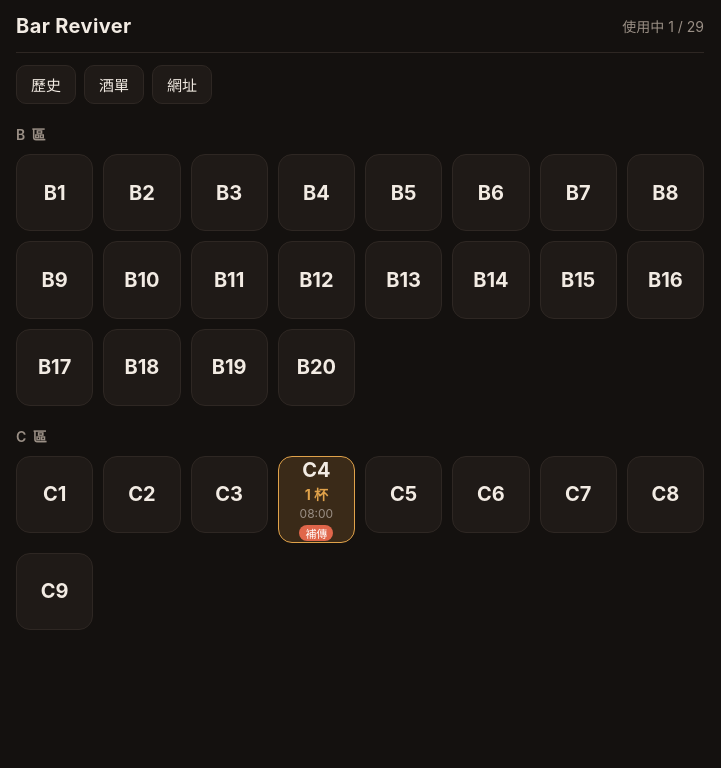
T7 驗收：離線 › 離線補傳重建的桌次有標示
What coordinates should you click on to do the following:
click the button "C4 1 杯 08:00 補傳"
I would click on:
 (316, 499)
Its box is [278, 456, 355, 543].
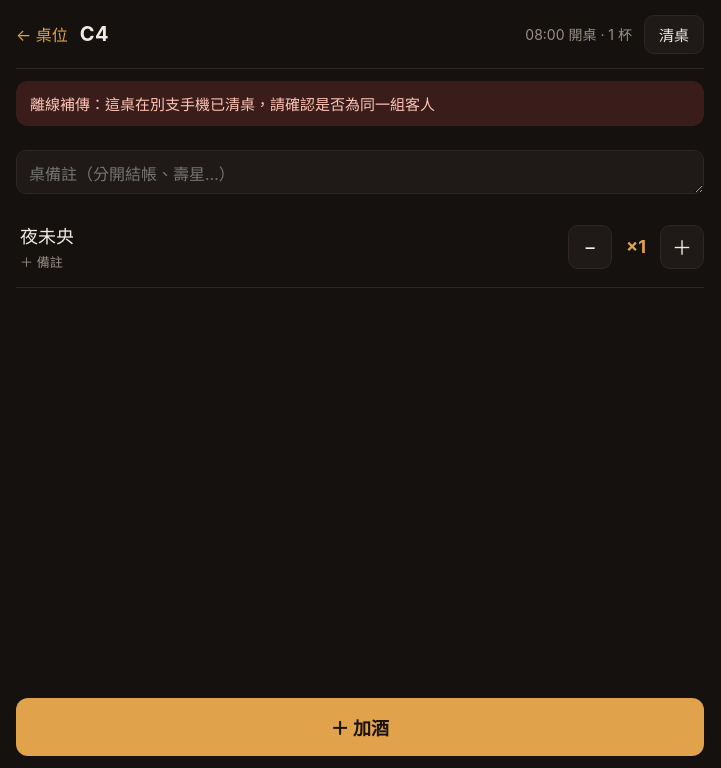
Check: the text "離線補傳：這桌在別支手機已清桌，請確認是否為同一組客人" is shown, box [16, 81, 704, 126]
